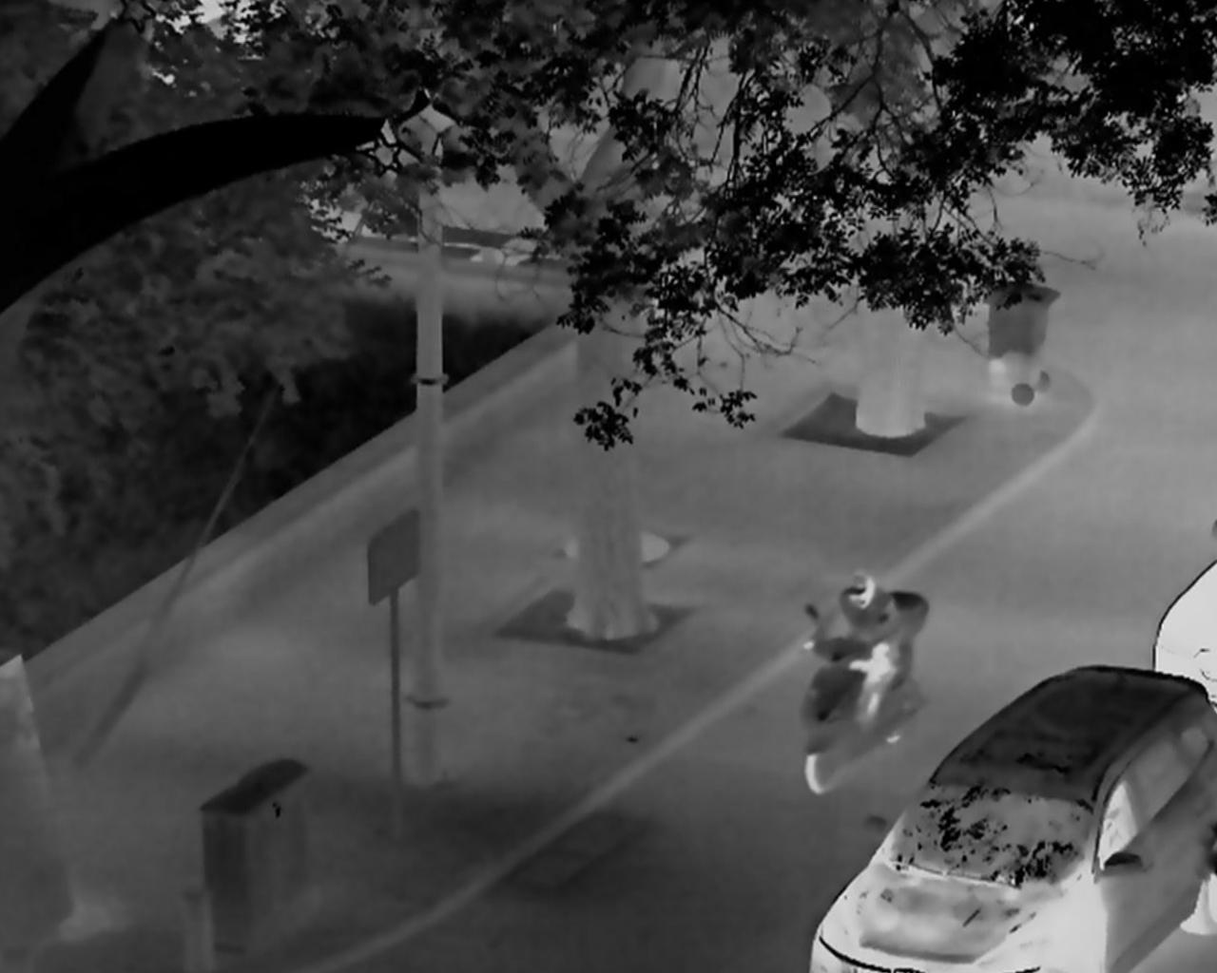person: (802, 566, 899, 731)
